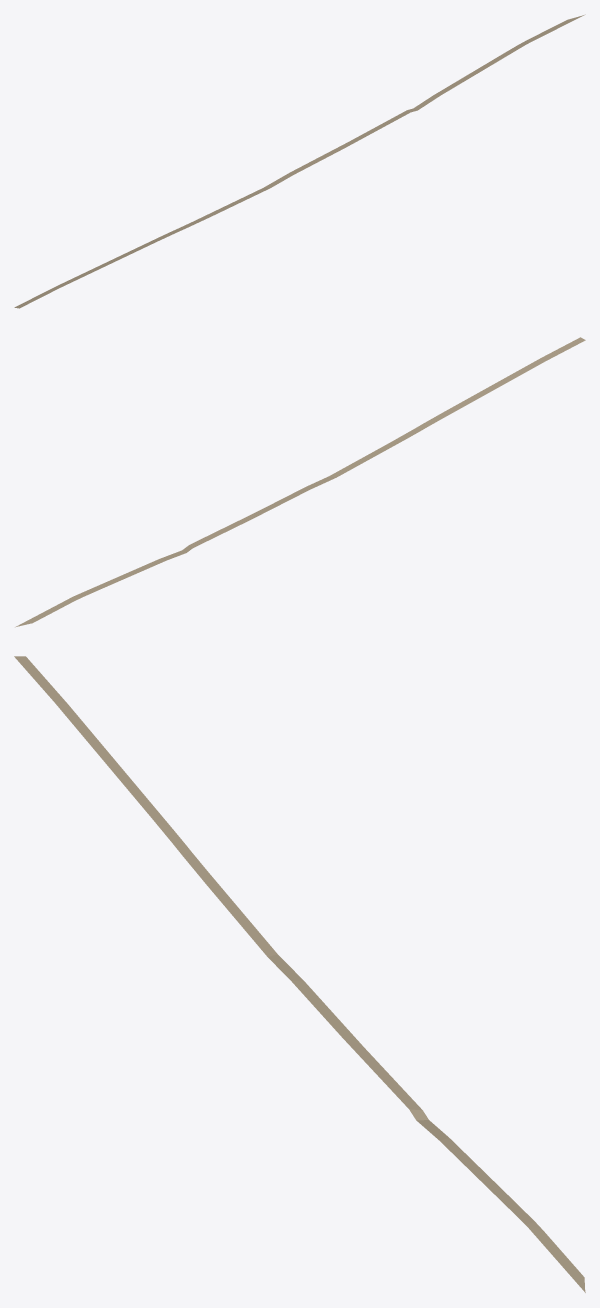
Rendered from farm_29_18_track.glb.
3 renders of one model, top to bottom at view 1: azimuth 30°, elevation 25°; view 2: azimuth 210°, elevation 25°; view 3: azimuth 270°, elevation 25°, orthographic. The views are drawn at different scales.
Visible parts, largest first — view 1: geometry_0; view 2: geometry_0; view 3: geometry_0.
Boxes of the visible parts, left/top/right/bottom form: geometry_0: left=14, top=14, right=585, bottom=308; geometry_0: left=15, top=337, right=585, bottom=627; geometry_0: left=14, top=656, right=585, bottom=1292.
Size of the model in its own units: 388 by 6.25 by 146.
